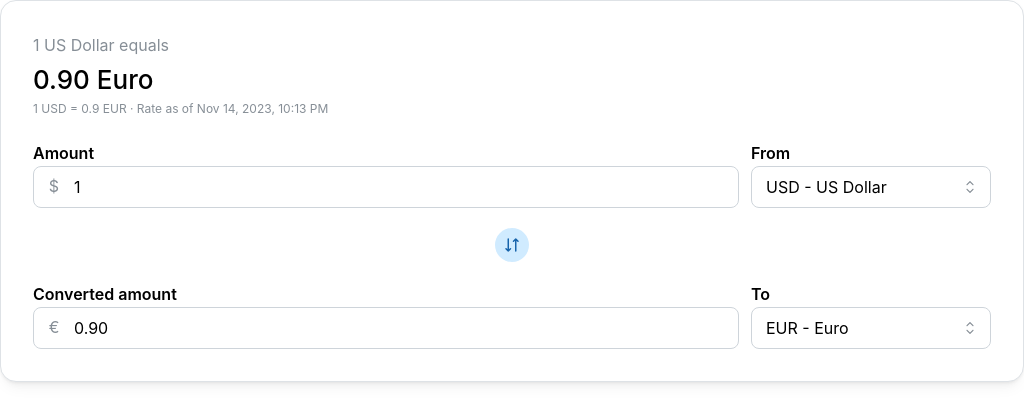
Test case: CurrencyConverter › swaps the currencies
Expected: the heading "0.90 Euro" is shown, [33,64,153,95]
Click the button named "Swap currencies" at {"x": 512, "y": 245}, box [495,228,529,262]
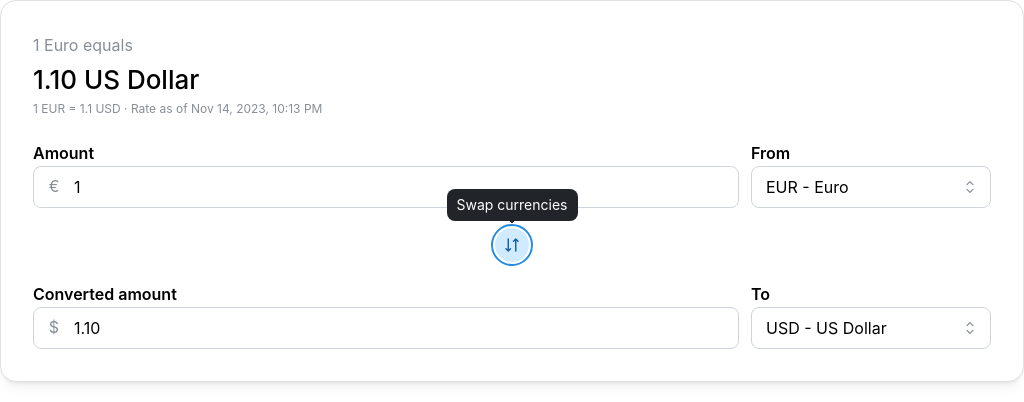
Expected: the dropdown labelled "From" holds "EUR - Euro", [751,166,991,208]
Expected: the dropdown labelled "To" holds "USD - US Dollar", [751,307,991,349]
Expected: the heading with test id "conversion-result" reads "1.10 US Dollar", [33,64,199,95]
